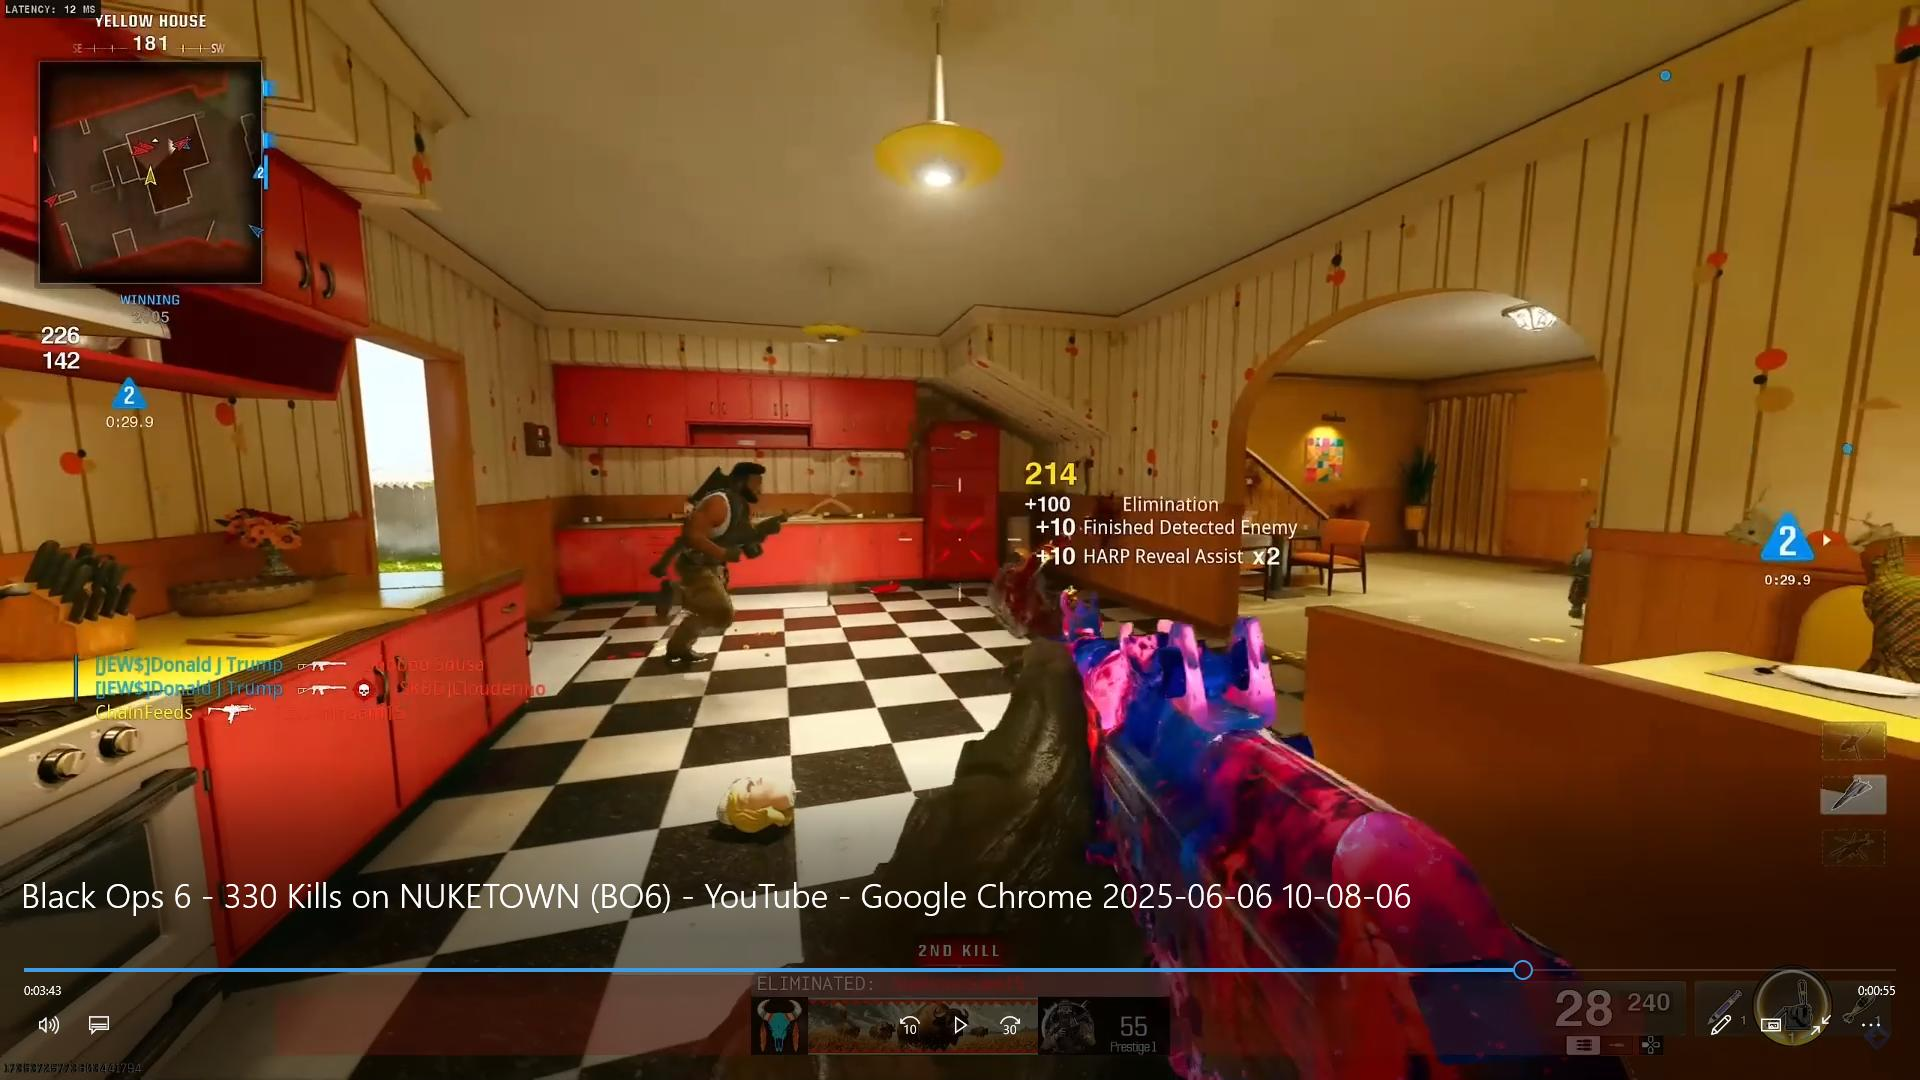Enemy: (654, 456, 790, 661)
